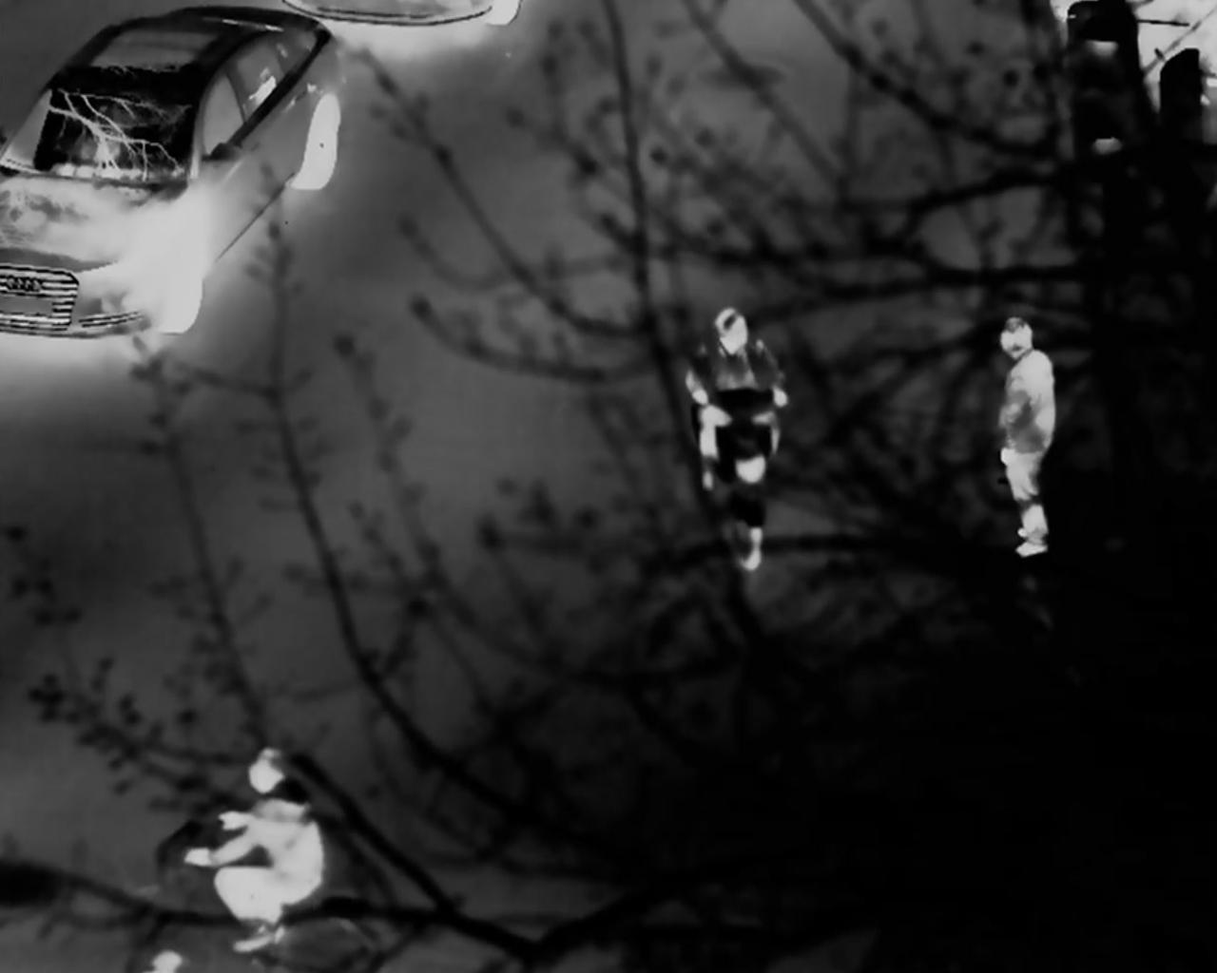person: (687, 312, 788, 562), (190, 754, 333, 923), (988, 313, 1072, 557)
